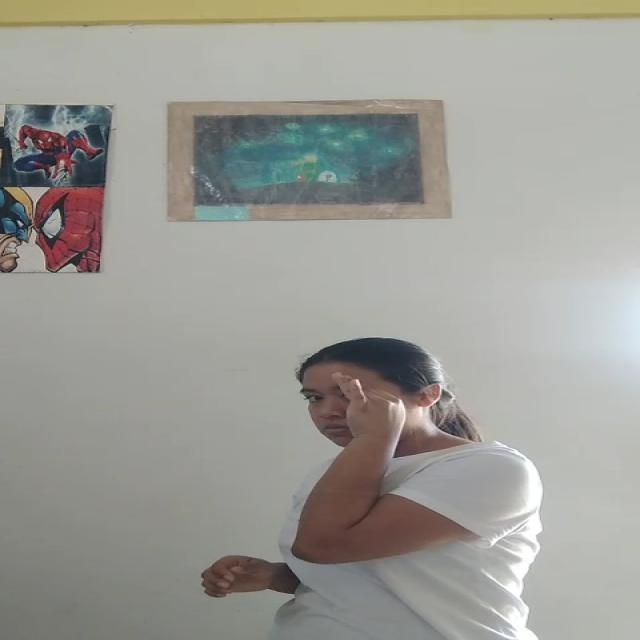7_mano_rostro: (331, 378, 406, 536)
